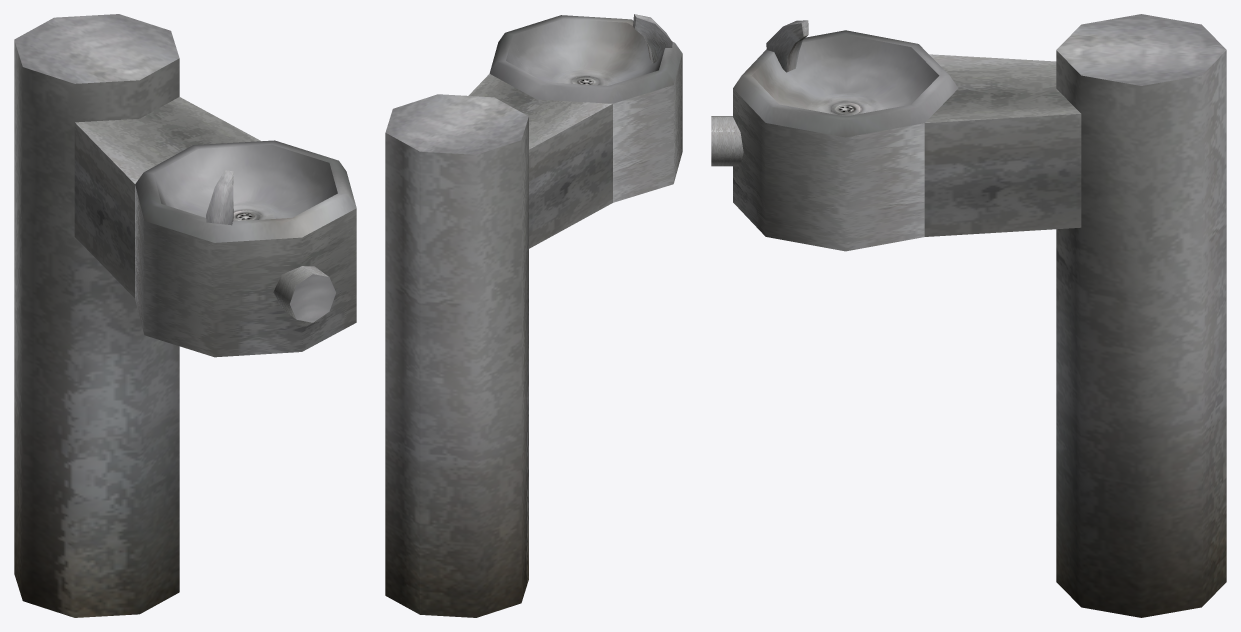
Rendered from obj_watercooler.fbx.
The picture shows the model from 3 angles, left to right: view 1: azimuth 30°, elevation 25°; view 2: azimuth 150°, elevation 25°; view 3: azimuth 270°, elevation 25°; orthographic projection. The views are drawn at different scales.
Parts seen in each view (by area): view 1: pCylinder3; view 2: pCylinder3; view 3: pCylinder3.
Part boxes in pixels (x1,y1,x2,y2): pCylinder3: (14,14,356,617); pCylinder3: (385,14,682,617); pCylinder3: (711,14,1226,617).
Bounding box in the file's own units: 0.9027 × 2.32 × 2.
1 material, 1 textured.
